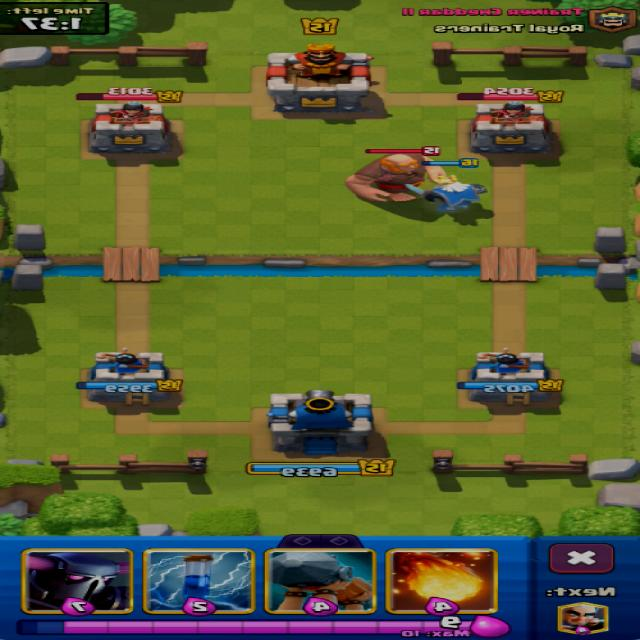Enemy-Giant: (347, 154, 445, 201)
Enemy-KingTower: (268, 45, 371, 113)
Enemy-PrincessTower: (471, 101, 552, 153), (90, 102, 170, 154)
